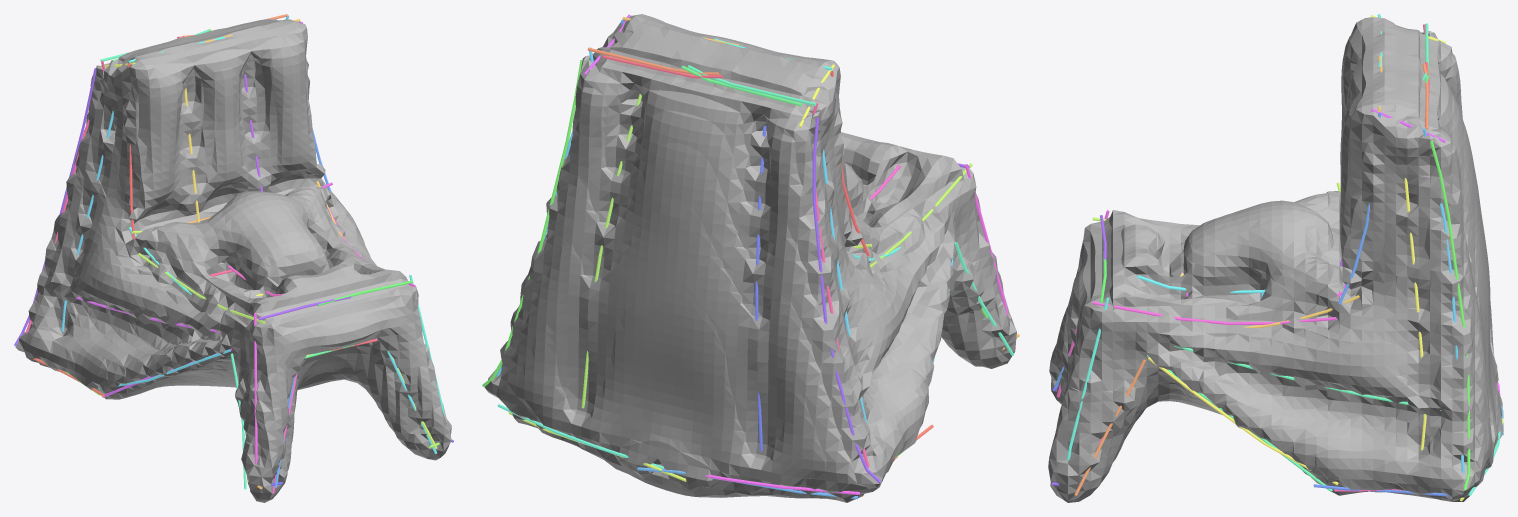
File: author1_chair_ff.gltf
The picture shows the model from 3 angles, left to right: view 1: azimuth 30°, elevation 25°; view 2: azimuth 150°, elevation 25°; view 3: azimuth 270°, elevation 25°; orthographic projection. The views are drawn at different scales.
Size of the model in its own units: 0.5763 by 0.5805 by 0.6064.
